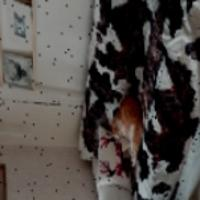asleep: (110, 92, 143, 166)
